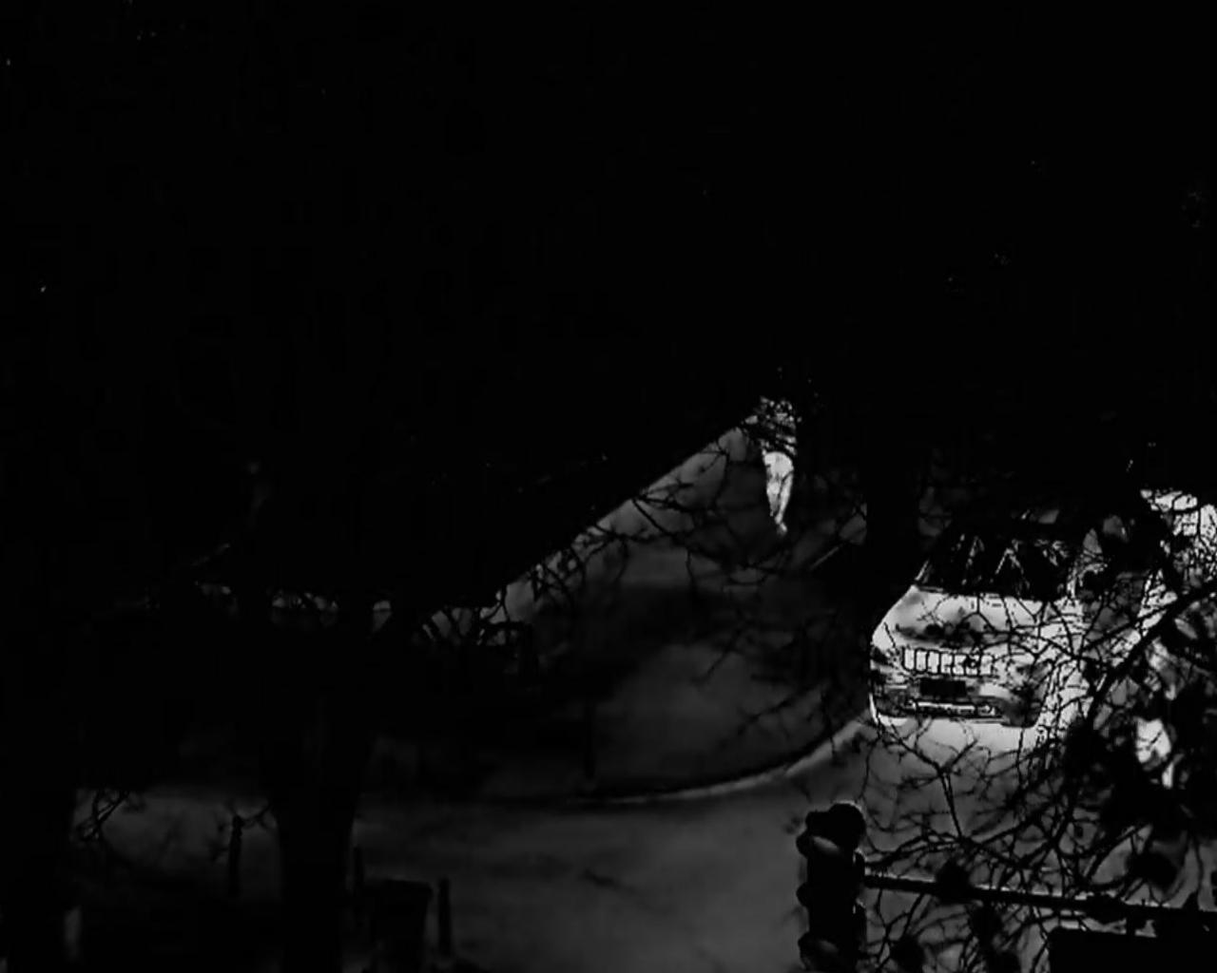person: (760, 403, 794, 539)
